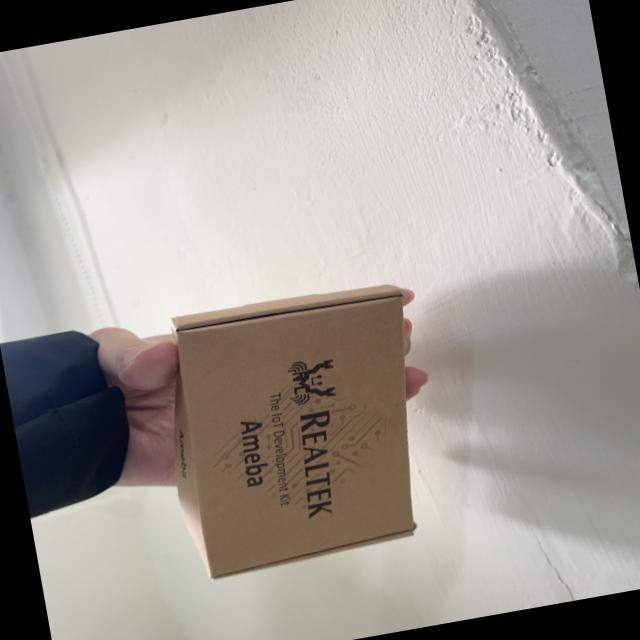box: (155, 258, 443, 584)
